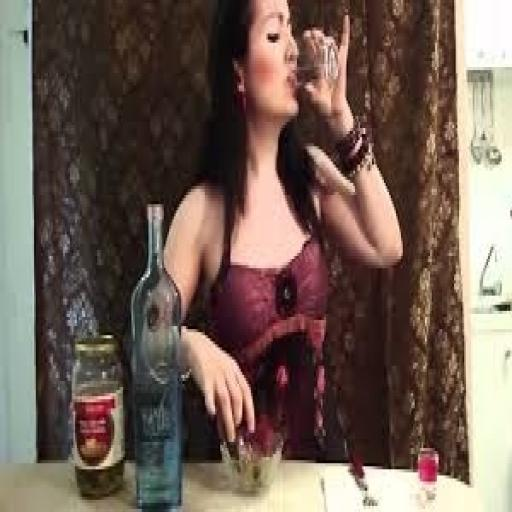drinking: (197, 0, 372, 189)
